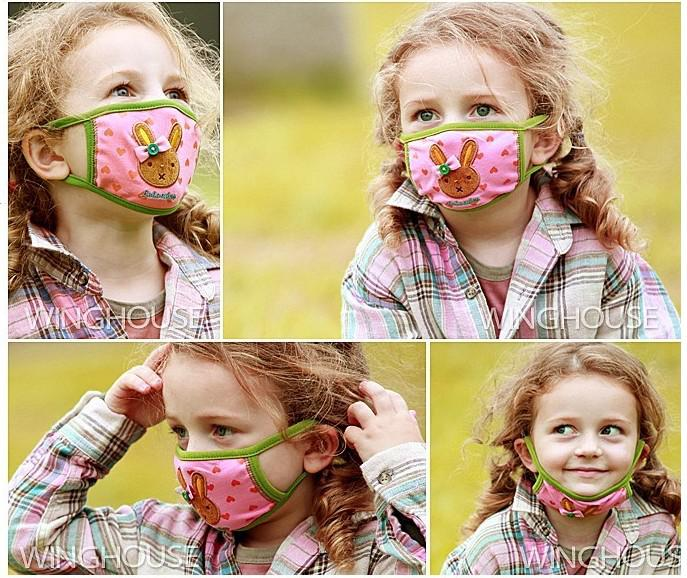OK: (66, 65, 209, 208), (166, 410, 287, 531), (400, 92, 513, 205)
WRONG: (537, 400, 631, 511)
